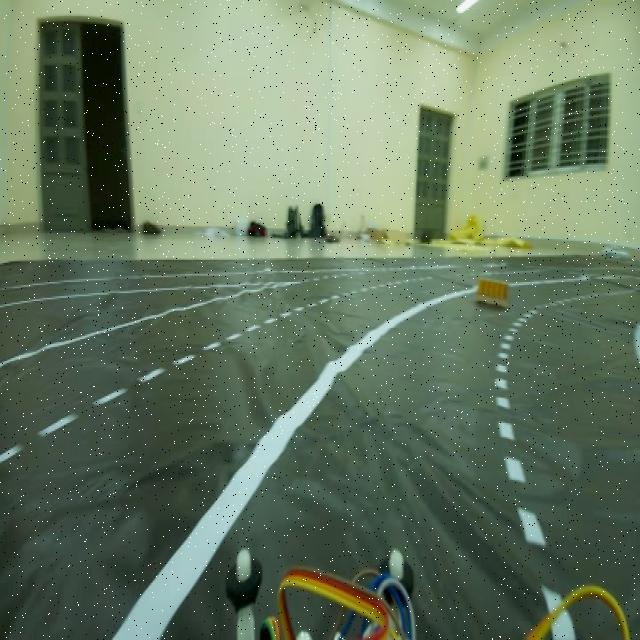roadblock: (474, 274, 515, 309)
